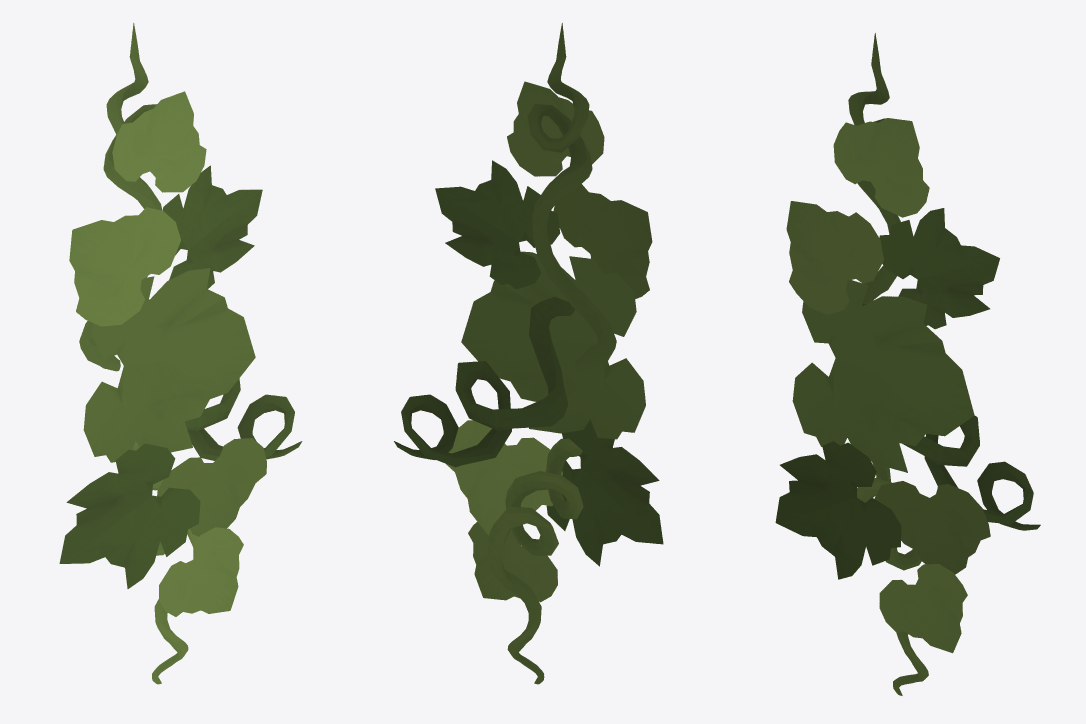
The model's file is SM_Env_Plant_Leaves_01.fbx.
3 views of the same model, side by side, from view 1: azimuth 30°, elevation 25°; view 2: azimuth 150°, elevation 25°; view 3: azimuth 330°, elevation 25° (orthographic).
Parts seen in each view (by area): view 1: SM_Env_Plant_Leaves_01; view 2: SM_Env_Plant_Leaves_01; view 3: SM_Env_Plant_Leaves_01.
Boxes of the visible parts, left/top/right/bottom form: SM_Env_Plant_Leaves_01: left=59, top=23, right=302, bottom=684; SM_Env_Plant_Leaves_01: left=394, top=23, right=663, bottom=684; SM_Env_Plant_Leaves_01: left=775, top=33, right=1040, bottom=695.
Size of the model in its own units: 169 by 339 by 19.84.
